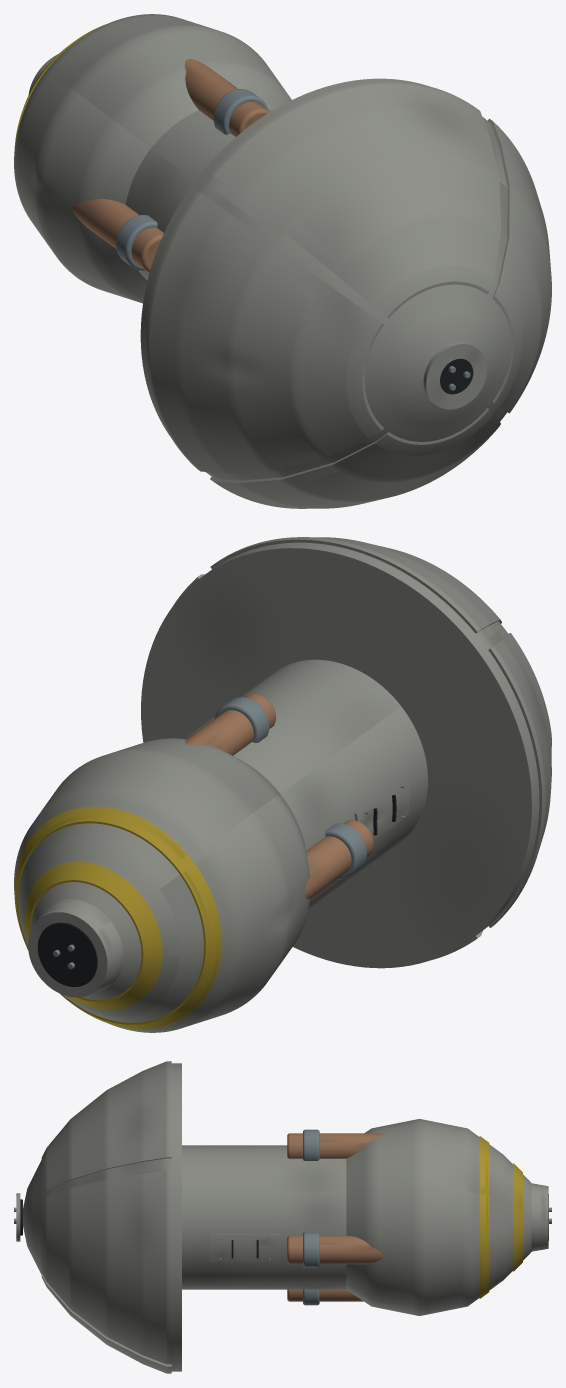
3 renders of one model, top to bottom at view 1: azimuth 30°, elevation 25°; view 2: azimuth 150°, elevation 25°; view 3: azimuth 270°, elevation 25°, orthographic. The views are drawn at different scales.
Parts seen in each view (by area): view 1: Warp Generator dome sector 2, Warp Generator dome sector 3, Warp Generator rounded module, Warp Generator flared dome, Warp Generator dome sector 1, Warp Generator dome sector 0, Warp Generator middle cylinder, Warp Generator copper connector 2, Warp Generator copper connector 1, Warp Generator front bezel, Warp Generator connector sleeve 2, Warp Generator connector sleeve 1 (+1 smaller); view 2: Warp Generator flared dome, Warp Generator rounded module, Warp Generator middle cylinder, Warp Generator yellow band 0, Warp Generator yellow band 1, Warp Generator dome sector 2, Warp Generator dome sector 3, Warp Generator rear bezel, Warp Generator rear inlay, Warp Generator copper connector 2, Warp Generator copper connector 1, Warp Generator service cover 1 (+2 smaller); view 3: Warp Generator rounded module, Warp Generator middle cylinder, Warp Generator dome sector 0, Warp Generator dome sector 3, Warp Generator flared dome, Warp Generator copper connector 0, Warp Generator service cover 0, Warp Generator yellow band 0, Warp Generator copper connector 1, Warp Generator rear bezel, Warp Generator dome sector 1, Warp Generator yellow band 1 (+3 smaller).
Boxes of the visible parts, x1=… form: Warp Generator dome sector 2: x1=145, y1=190, x2=383, y2=473; Warp Generator dome sector 3: x1=210, y1=81, x2=501, y2=318; Warp Generator rounded module: x1=14, y1=14, x2=291, y2=303; Warp Generator flared dome: x1=140, y1=78, x2=511, y2=480; Warp Generator dome sector 1: x1=210, y1=408, x2=500, y2=508; Warp Generator dome sector 0: x1=487, y1=118, x2=551, y2=413; Warp Generator middle cylinder: x1=125, y1=109, x2=271, y2=280; Warp Generator copper connector 2: x1=72, y1=199, x2=163, y2=272; Warp Generator copper connector 1: x1=184, y1=59, x2=269, y2=136; Warp Generator front bezel: x1=423, y1=342, x2=487, y2=409; Warp Generator connector sleeve 2: x1=116, y1=215, x2=157, y2=270; Warp Generator connector sleeve 1: x1=213, y1=89, x2=268, y2=134; Warp Generator flared dome: x1=141, y1=542, x2=539, y2=968; Warp Generator rounded module: x1=14, y1=738, x2=309, y2=1032; Warp Generator middle cylinder: x1=184, y1=659, x2=427, y2=909; Warp Generator yellow band 0: x1=14, y1=806, x2=221, y2=1029; Warp Generator yellow band 1: x1=24, y1=862, x2=162, y2=1010; Warp Generator dome sector 2: x1=488, y1=633, x2=551, y2=927; Warp Generator dome sector 3: x1=210, y1=537, x2=501, y2=633; Warp Generator rear bezel: x1=28, y1=899, x2=123, y2=997; Warp Generator rear inlay: x1=37, y1=922, x2=97, y2=986; Warp Generator copper connector 2: x1=304, y1=820, x2=373, y2=899; Warp Generator copper connector 1: x1=185, y1=694, x2=275, y2=755; Warp Generator service cover 1: x1=354, y1=776, x2=409, y2=840; Warp Generator rounded module: x1=346, y1=1119, x2=531, y2=1315; Warp Generator middle cylinder: x1=182, y1=1145, x2=346, y2=1289; Warp Generator dome sector 0: x1=41, y1=1170, x2=171, y2=1361; Warp Generator dome sector 3: x1=41, y1=1061, x2=171, y2=1194; Warp Generator flared dome: x1=23, y1=1063, x2=181, y2=1371; Warp Generator copper connector 0: x1=287, y1=1235, x2=383, y2=1264; Warp Generator service cover 0: x1=210, y1=1234, x2=279, y2=1261; Warp Generator yellow band 0: x1=479, y1=1136, x2=489, y2=1298; Warp Generator copper connector 1: x1=287, y1=1133, x2=383, y2=1158; Warp Generator rear bezel: x1=531, y1=1183, x2=548, y2=1251; Warp Generator dome sector 1: x1=41, y1=1273, x2=171, y2=1373; Warp Generator yellow band 1: x1=513, y1=1163, x2=522, y2=1271.
Bounding box in the file's own units: 1.3 × 1.3 × 2.24.
Materials: 5 (3 with a texture image).
